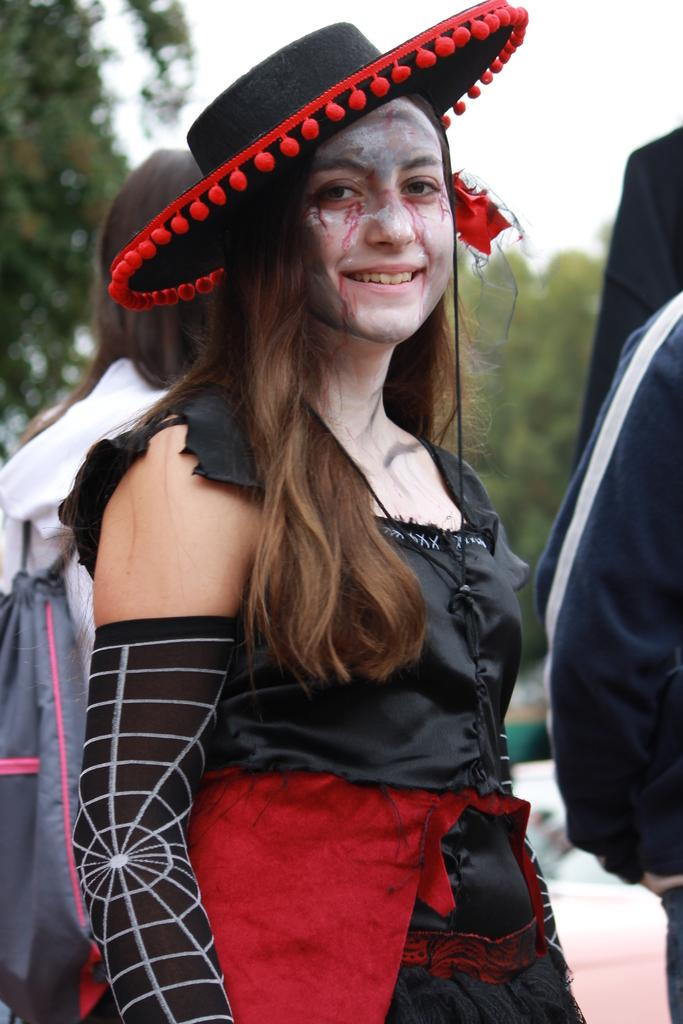Hat: (106, 0, 531, 616)
